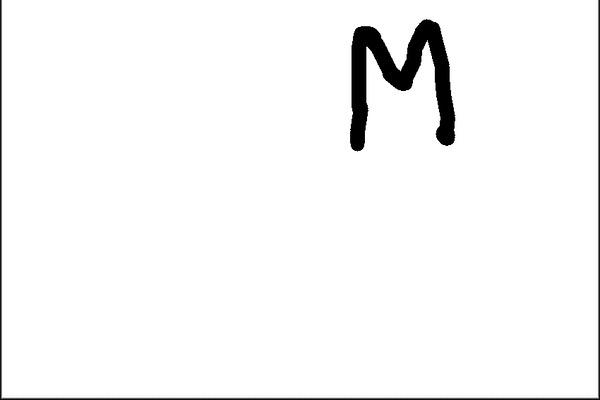M: (344, 16, 457, 157)
